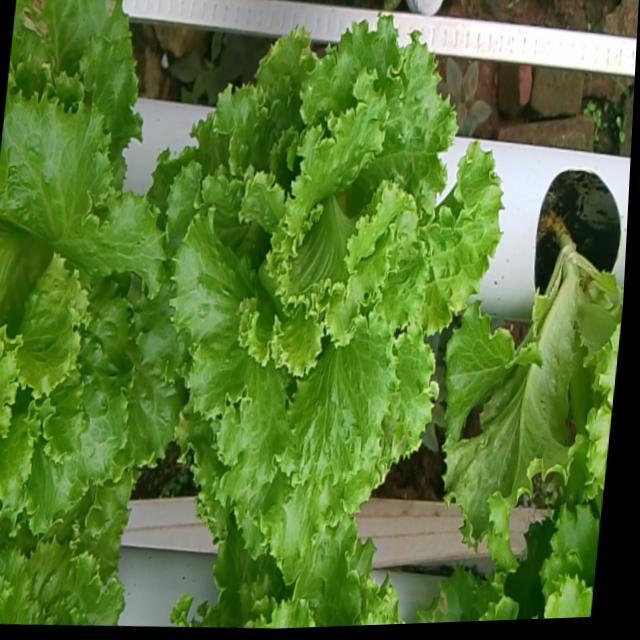Mature: (160, 8, 495, 550), (0, 79, 177, 526)
